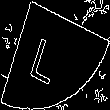L_N: (36, 26, 74, 84)
